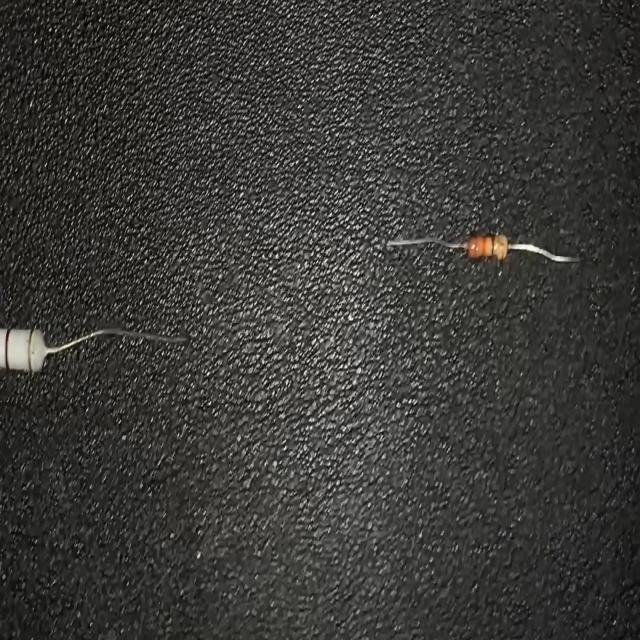burnt: (465, 233, 480, 262)
faded: (496, 234, 507, 261)
resistor: (0, 320, 188, 377), (384, 226, 588, 270)
